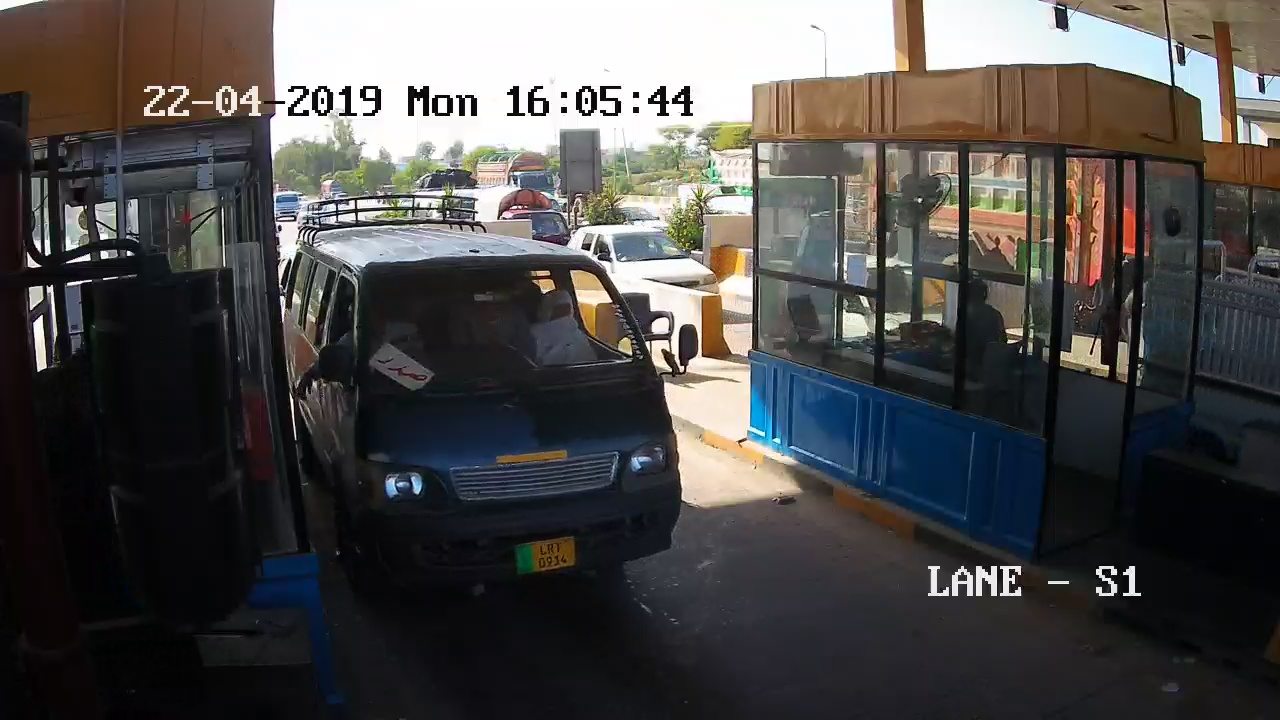Number Plate (Car): (515, 538, 575, 572)
